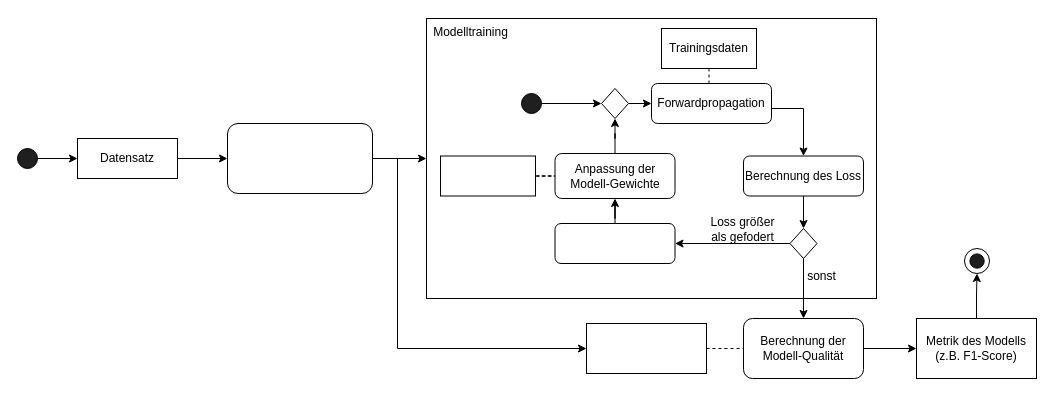
Some shapes in this 1054 by 396 pixel diagram are drawn without their labels. Each missing label, with the centre of its shape:
"Backpropagation" goes at (x=614, y=243).
"Evaluationsdaten" goes at (x=488, y=175).
"Testdaten" goes at (x=646, y=348).
"Unterteilung in Trainings, Evaluations und Testdaten" goes at (x=299, y=158).
